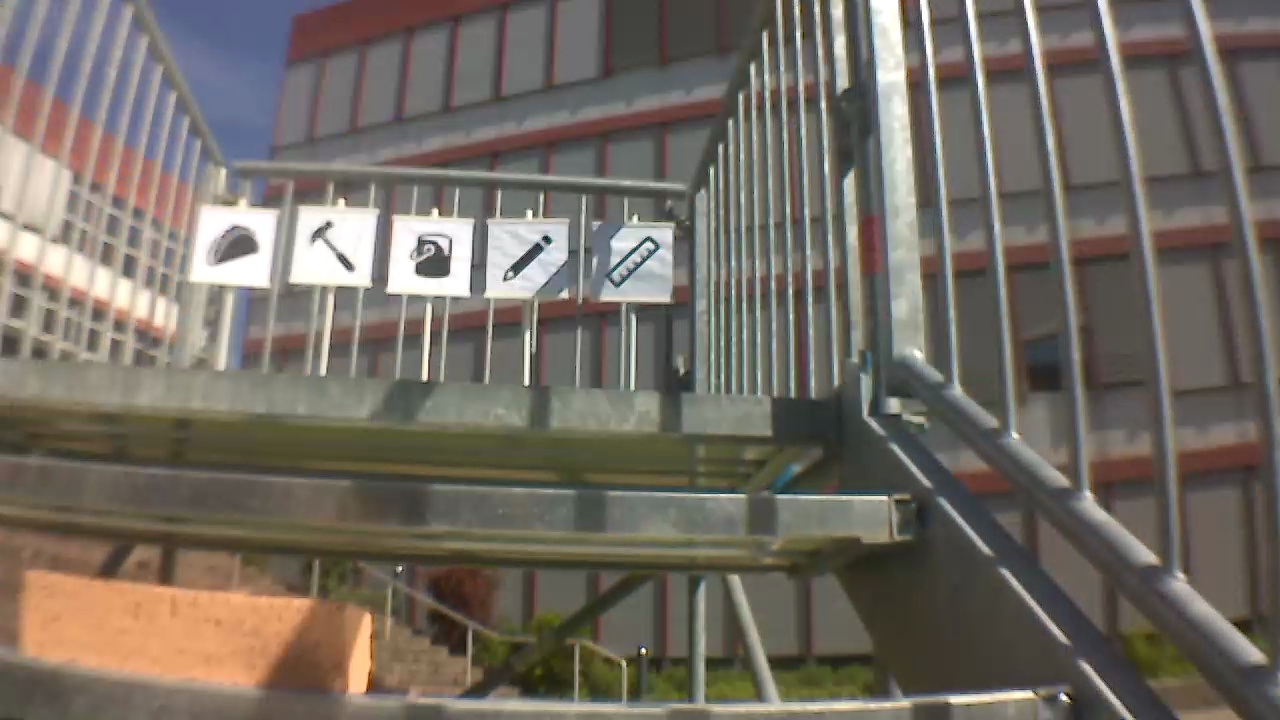brick: (0, 566, 391, 694)
bucket: (404, 227, 459, 280)
edge: (0, 483, 917, 543), (0, 389, 843, 430)
hammer: (299, 215, 358, 275)
ruler: (604, 237, 660, 289)
taco: (200, 217, 262, 266)
